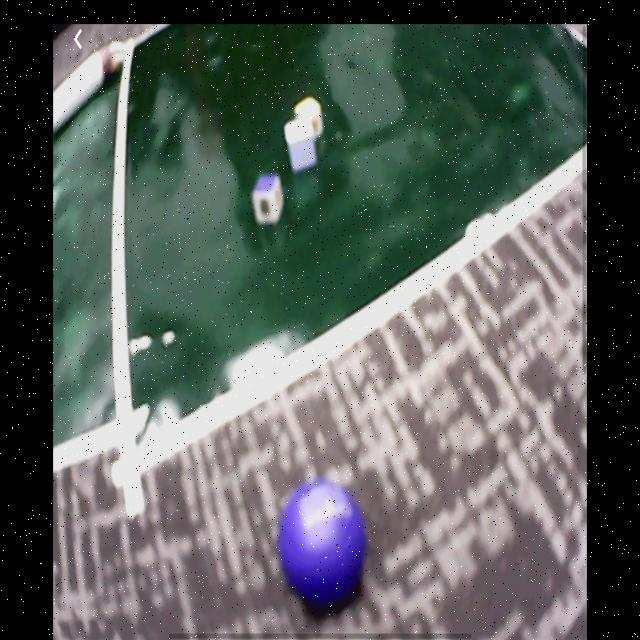ball: (281, 487, 367, 606)
